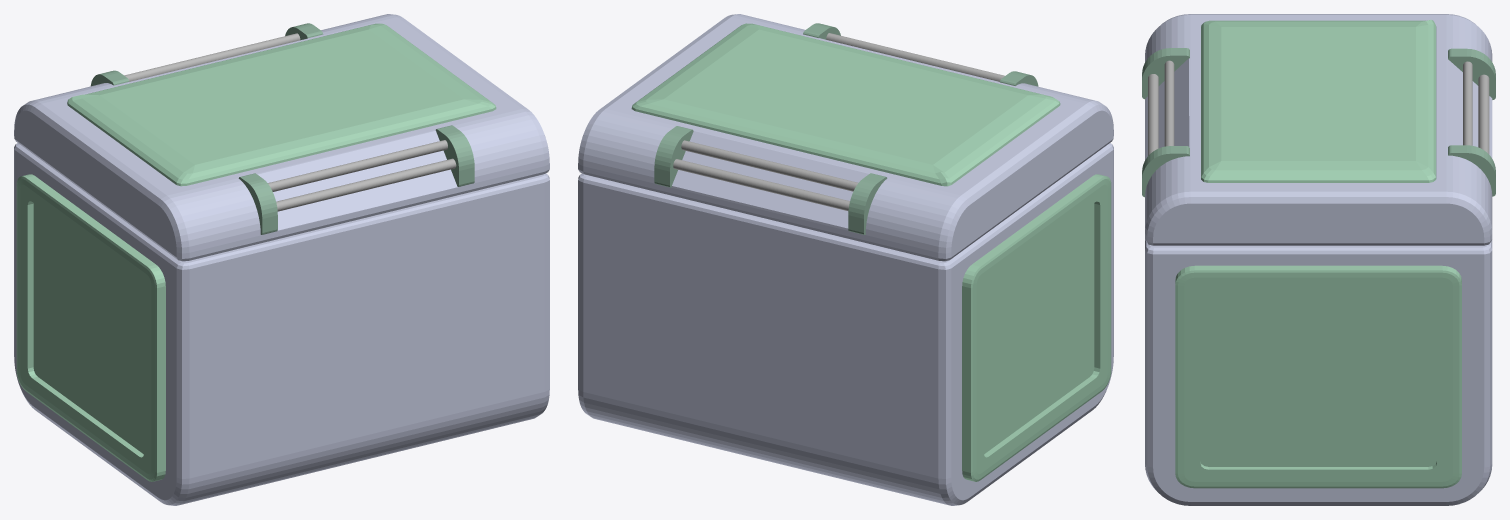
File: kontti.fbx
3 views of the same model, side by side, from view 1: azimuth 30°, elevation 25°; view 2: azimuth 150°, elevation 25°; view 3: azimuth 270°, elevation 25° (orthographic).
Visible parts, largest first — view 1: Cube.002; view 2: Cube.002; view 3: Cube.002.
Part boxes in pixels (x1=…): Cube.002: x1=14, y1=14, x2=549, y2=505; Cube.002: x1=578, y1=14, x2=1113, y2=505; Cube.002: x1=1142, y1=14, x2=1495, y2=505.
Bounding box in the file's own units: 266 × 205 × 204.
